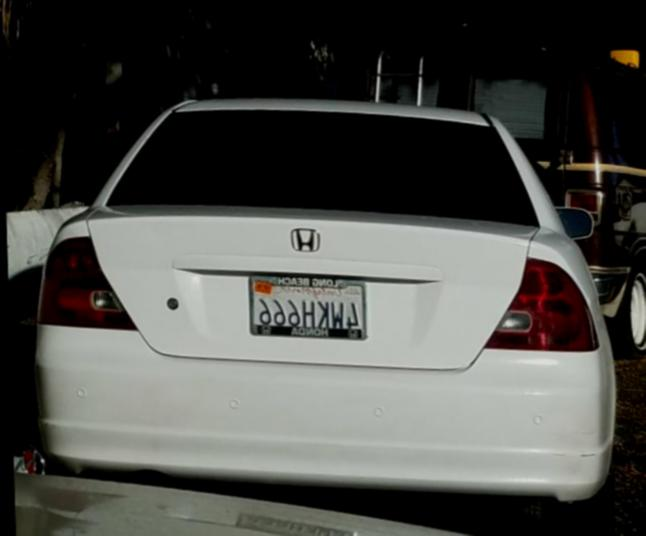License_Plate: (244, 267, 373, 349)
